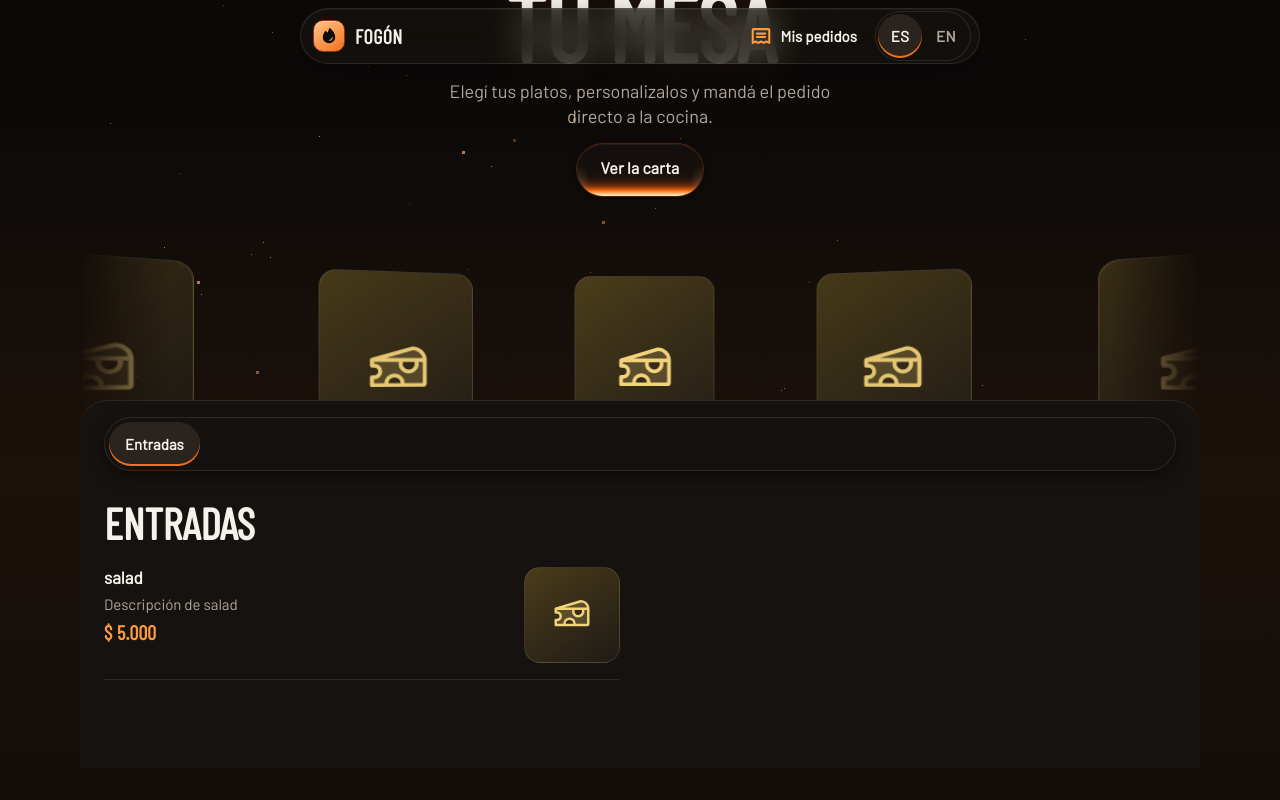
Test case: CustomerApp: esqueleto de la app (RF1, RF2, RF3, RF4, RF32, RF41, RF42) › pedido en curso y envío (T8: RF21, RF23, RF25, RF26) › un envío correcto lleva a "Mis pedidos", vacía el pedido y muestra el código (RF25)
Click the button "salad Descripción de salad $ 5.000".
click(123, 577)  # box [104,551,620,679]
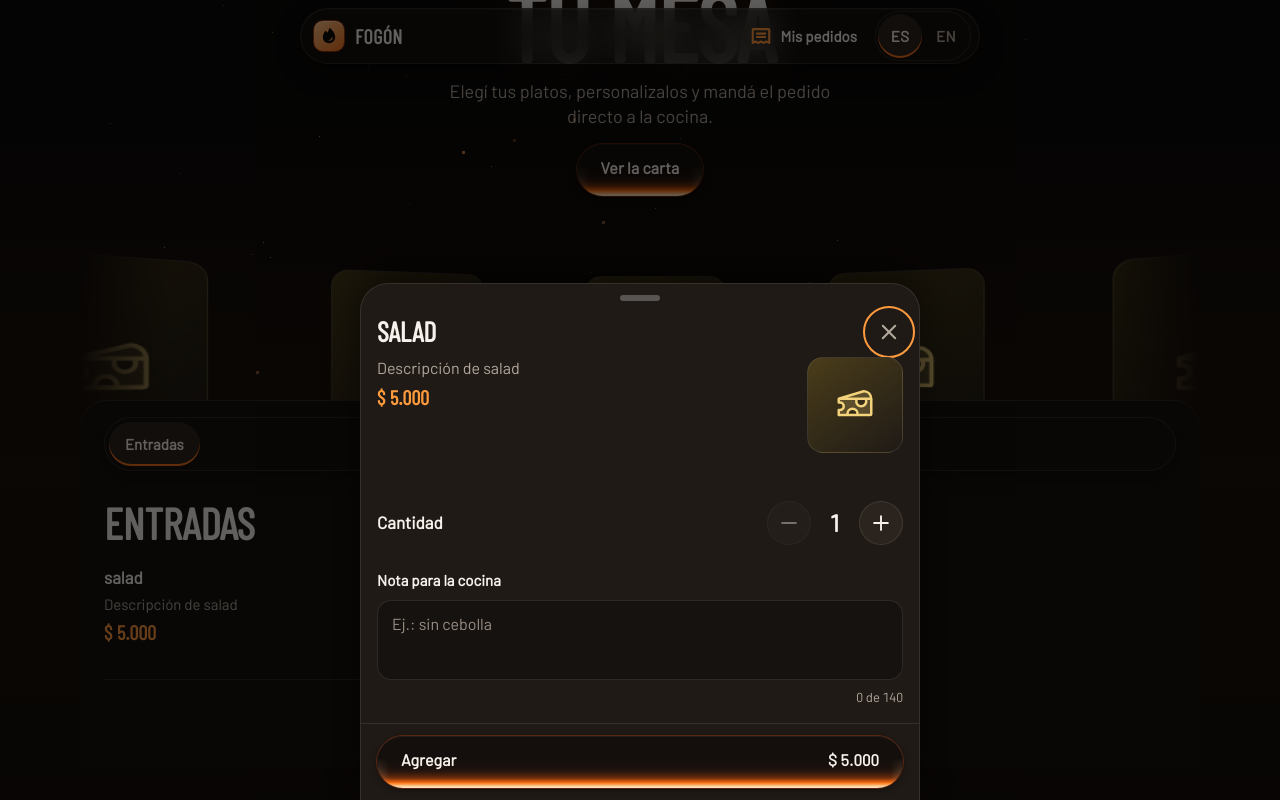
Click the button "Agregar $ 5.000".
click(429, 760)  # box [377,736,903,788]
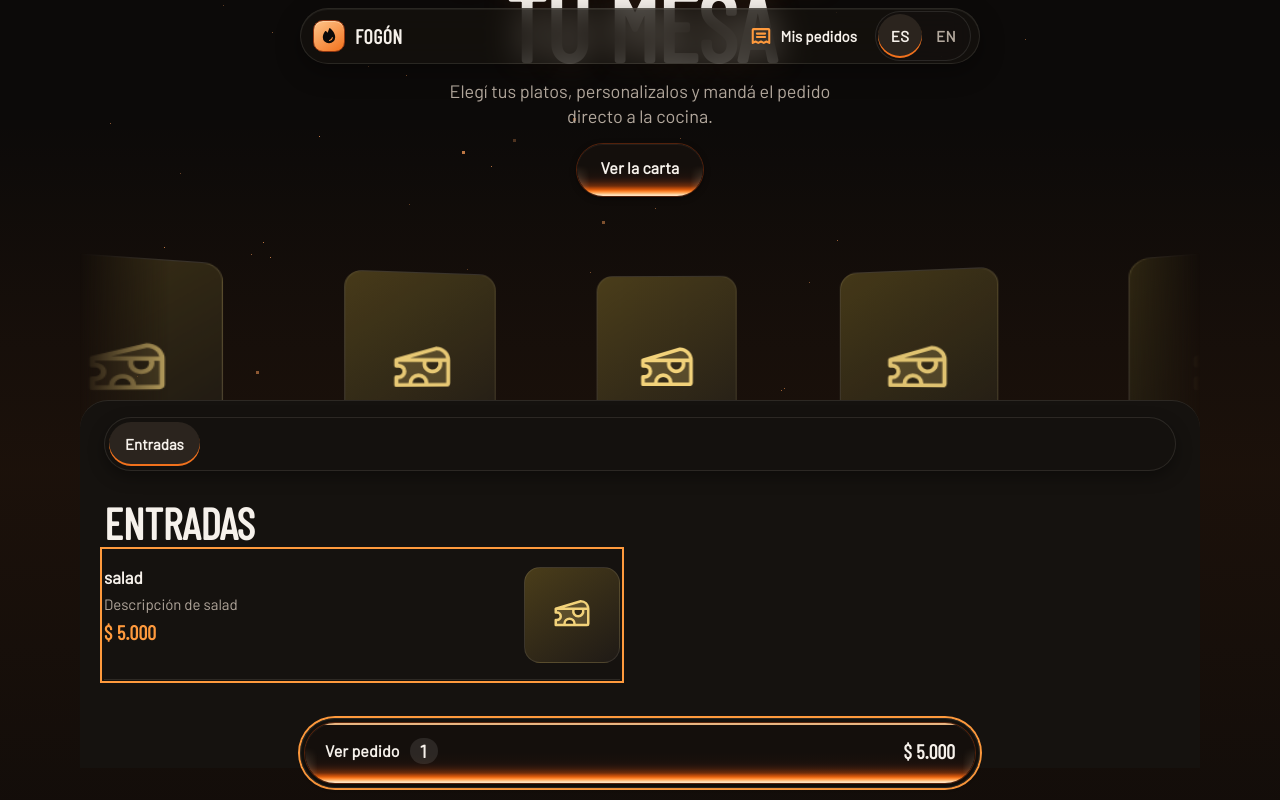
Result: the dialog is gone
Click the button "Ver pedido 1 $ 5.000".
click(362, 750)  # box [305,723,975,783]
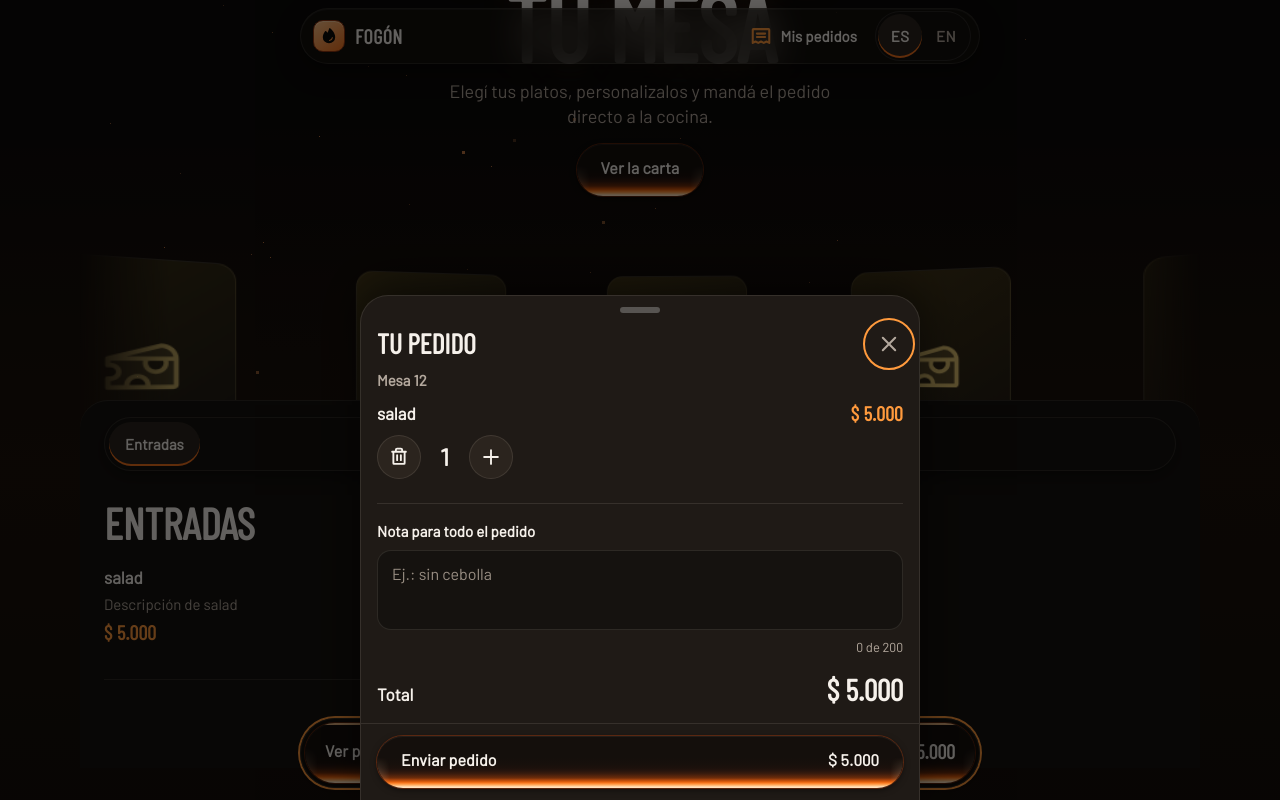
Click the button "Enviar pedido $ 5.000".
click(449, 760)  # box [377,736,903,788]
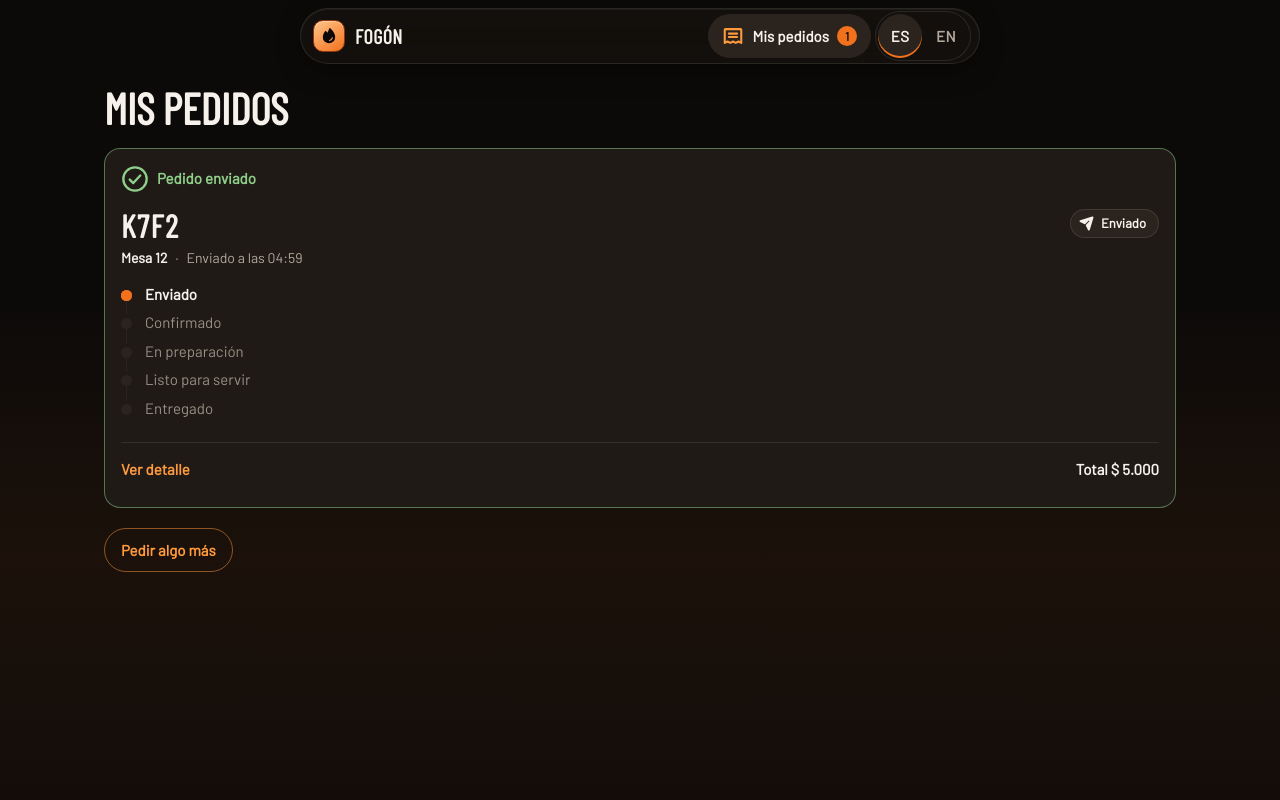
Result: the heading "Mis pedidos" is shown at [104,81,288,134]
Result: the text "Pedido enviado" is shown at [157,167,256,190]
Result: the text "K7F2" is shown at [121,206,179,244]
